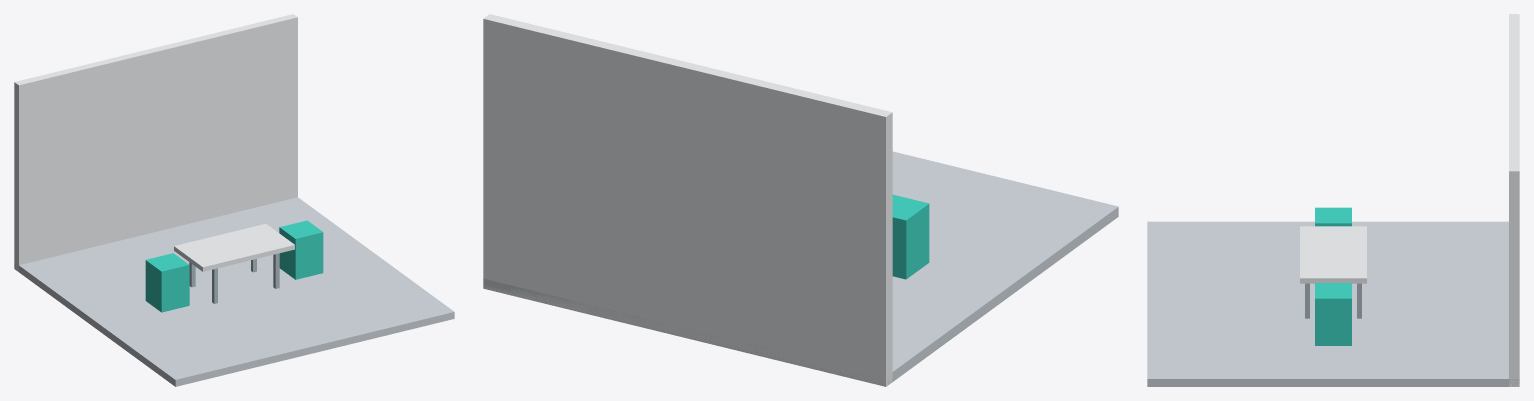
3 renders of one model, left to right at view 1: azimuth 30°, elevation 25°; view 2: azimuth 150°, elevation 25°; view 3: azimuth 270°, elevation 25°, orthographic. The views are drawn at different scales.
Visible parts, largest first — view 1: Exhibition Booth Concept; view 2: Exhibition Booth Concept; view 3: Exhibition Booth Concept.
Boxes of the visible parts, bbox=[...] form: Exhibition Booth Concept: bbox=[14, 14, 454, 386]; Exhibition Booth Concept: bbox=[483, 14, 1118, 386]; Exhibition Booth Concept: bbox=[1147, 14, 1519, 386].
Bounding box in the file's own units: 5 × 3.2 × 5.
